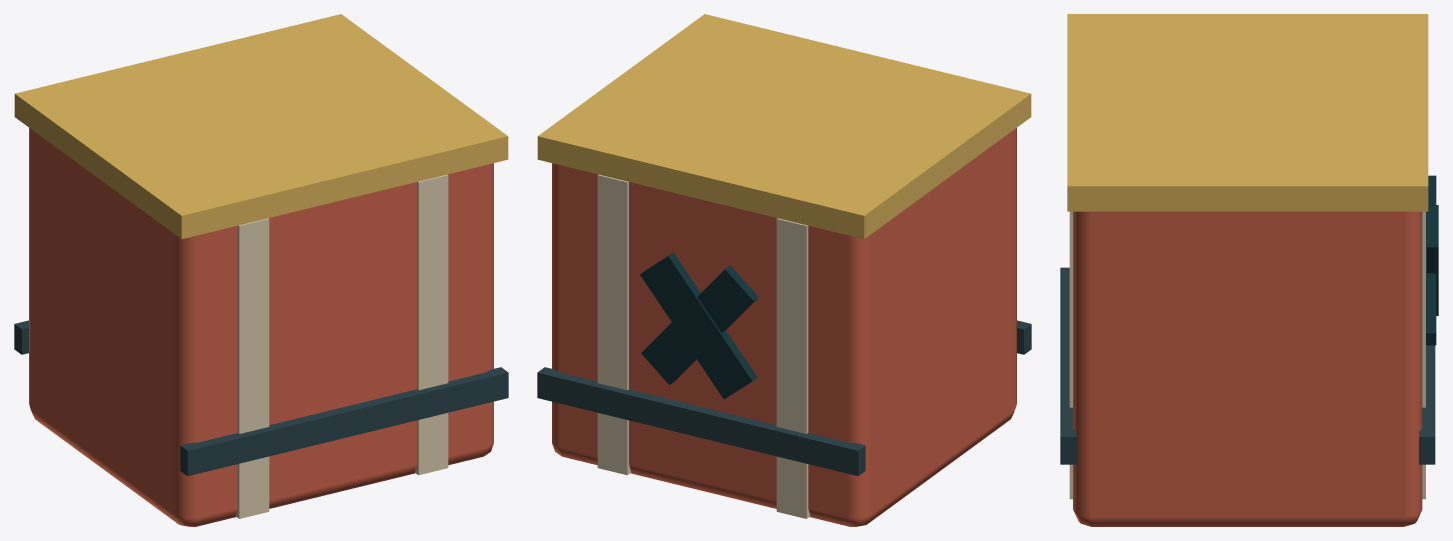
File: obstacle.glb
3 renders of one model, left to right at view 1: azimuth 30°, elevation 25°; view 2: azimuth 150°, elevation 25°; view 3: azimuth 270°, elevation 25°, orthographic. The views are drawn at different scales.
Parts seen in each view (by area): view 1: item-obstacle; view 2: item-obstacle; view 3: item-obstacle.
Part boxes in pixels (box(x1,y1,x2,y2)): item-obstacle: box(14, 14, 508, 526); item-obstacle: box(537, 14, 1031, 526); item-obstacle: box(1060, 14, 1438, 526).
Bounding box in the file's own units: 1.75 × 1.66 × 1.62.
